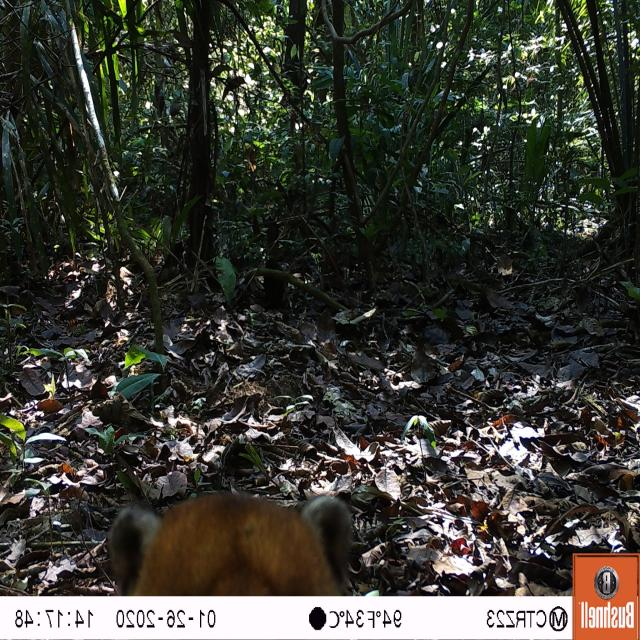South American Coati: (107, 489, 365, 597)
